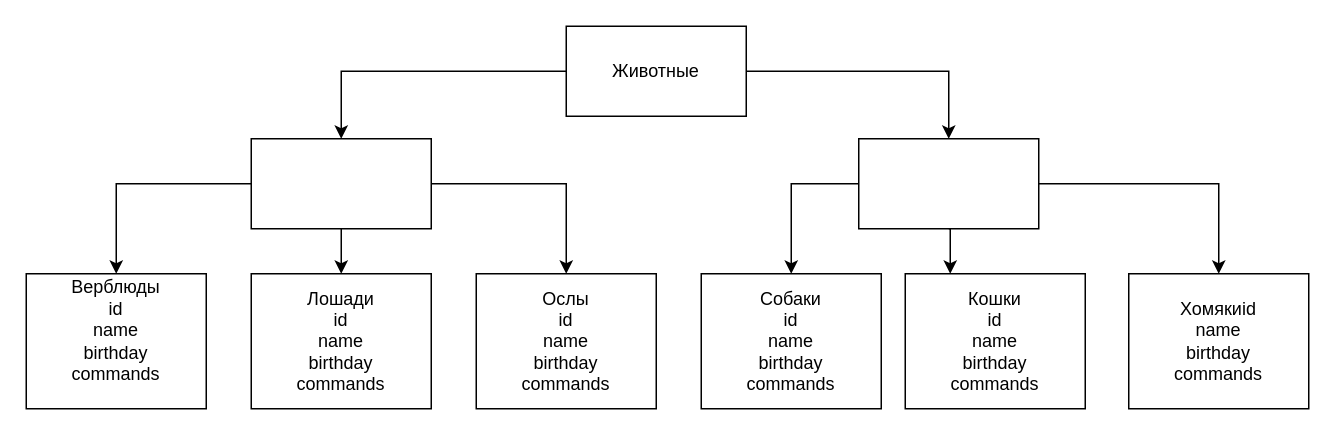
Some shapes in this 1335 by 435 pixel diagram are drawn without their labels. The shapes that lost their labels are listed below. From the top down, each one's centre as x and y in pixels, then its label:
[340,183]: Вьючные id classname
[948,183]: Домашние id classname
